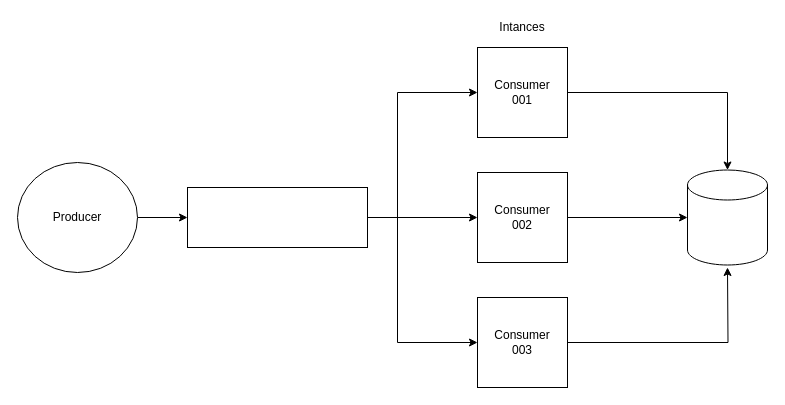
The diagram is 785 pixels wide and 405 high, and some of its shapes have lost their labels. The centre of each missing label's shape, as x and y in pixels:
Data: pixel 727 217
Queue: pixel 277 217
